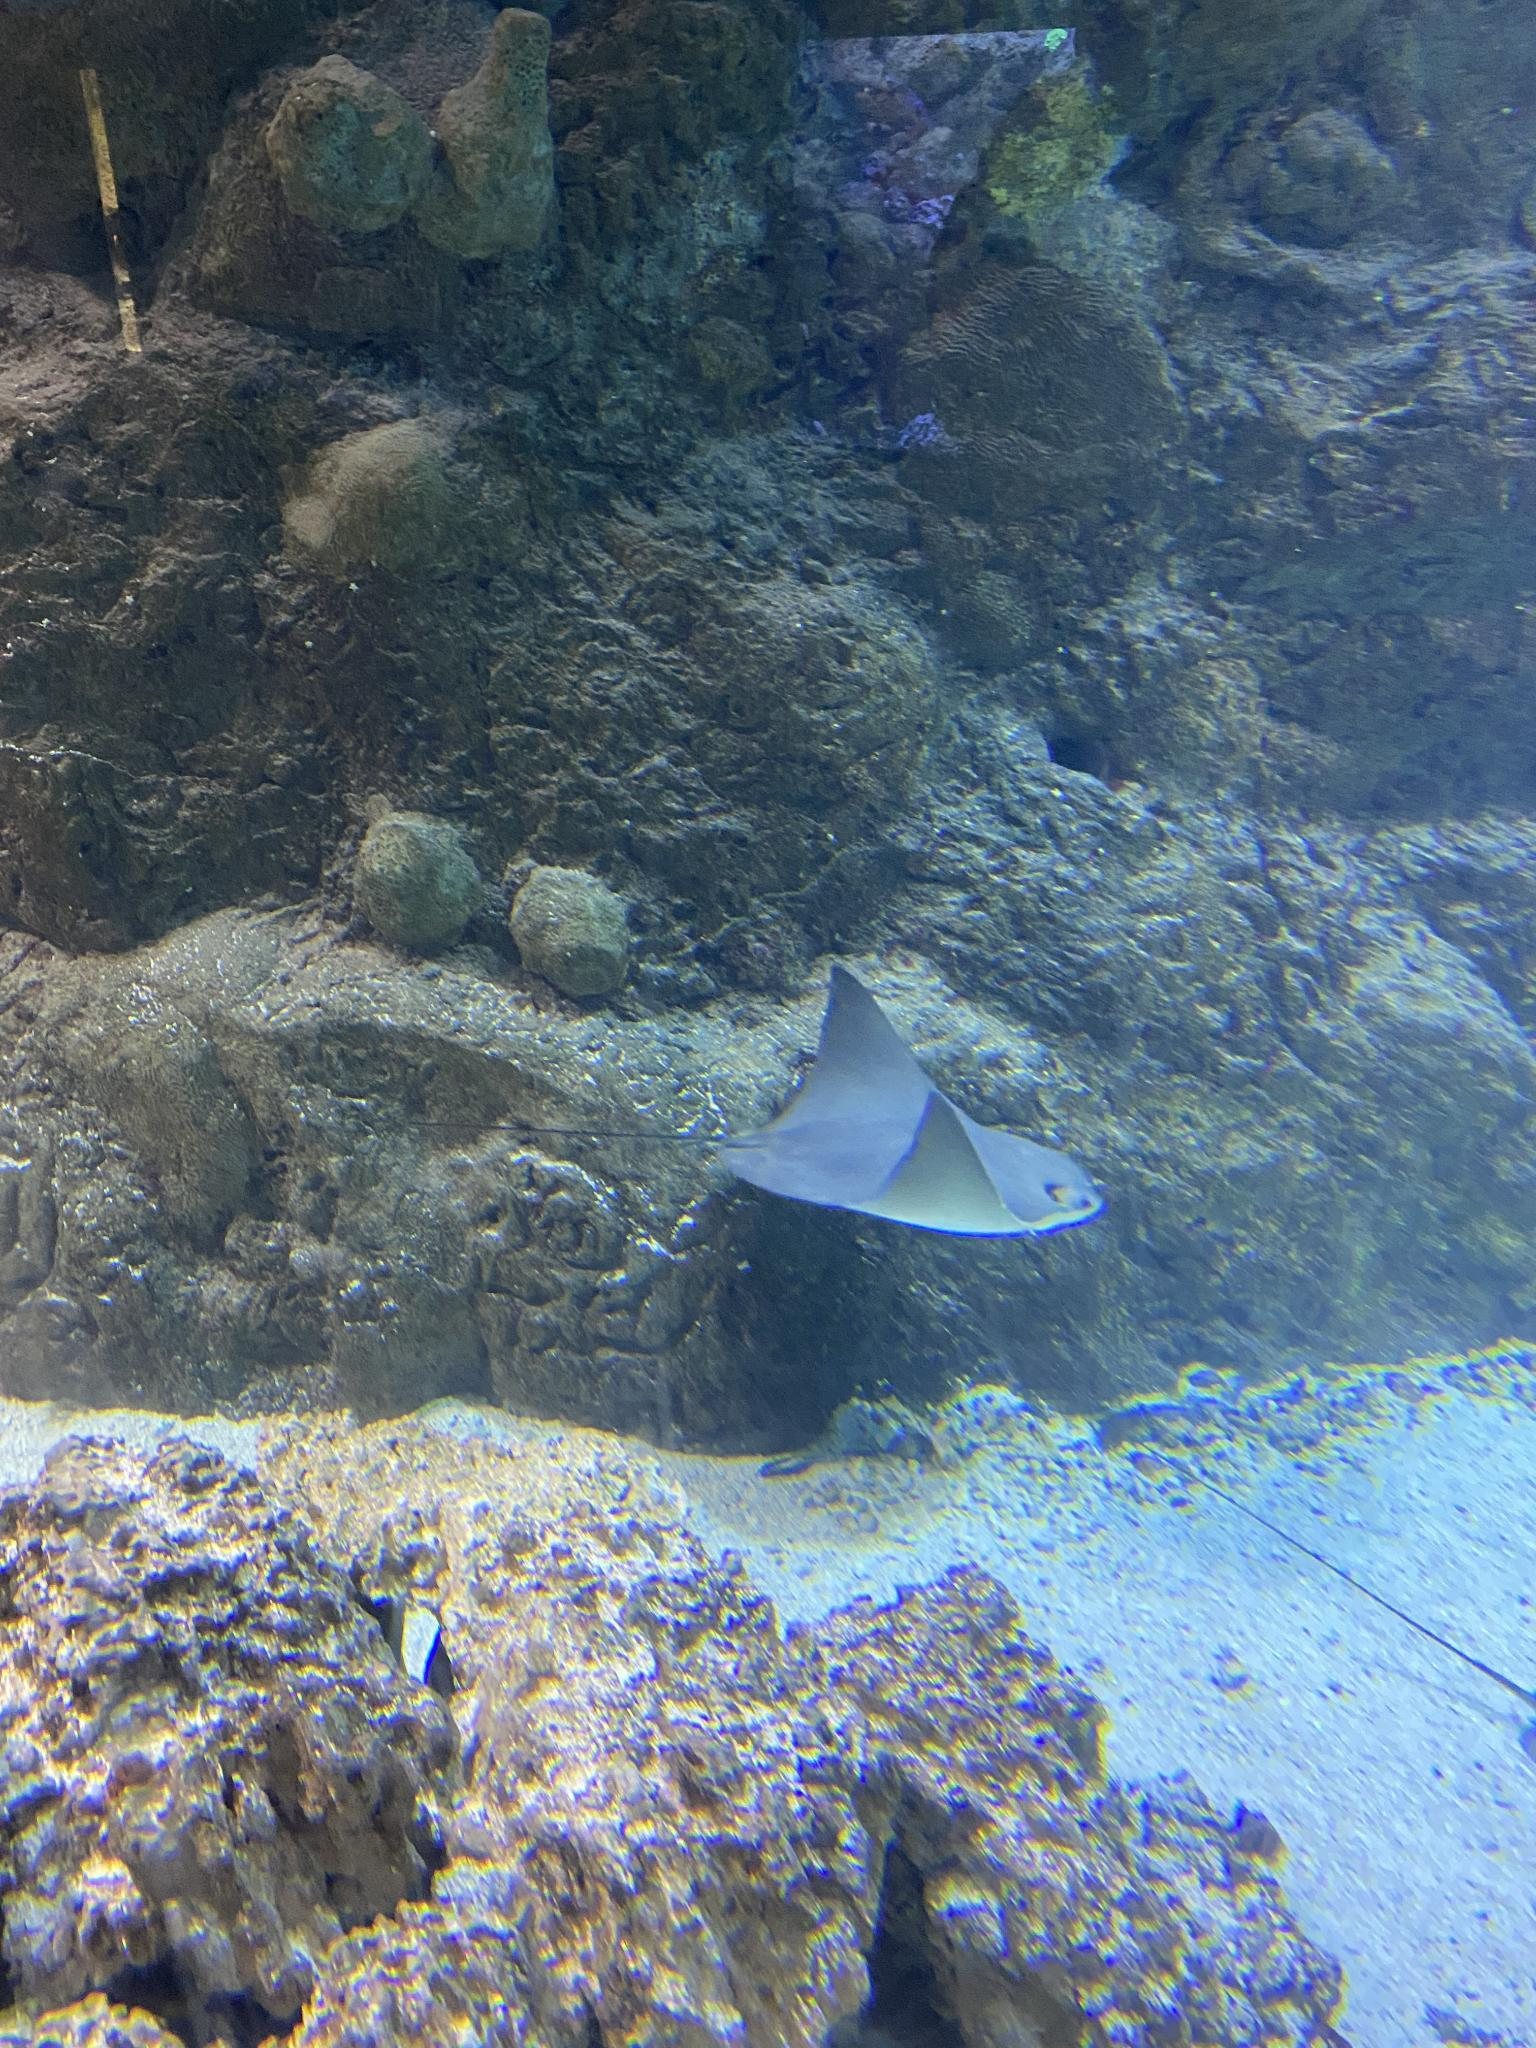stingray: (712, 963, 1105, 1235)
